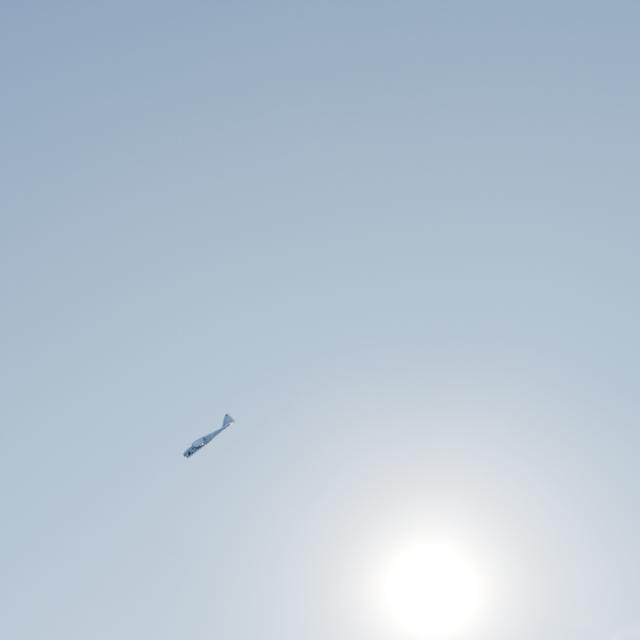Airaplan: (183, 413, 236, 458)
